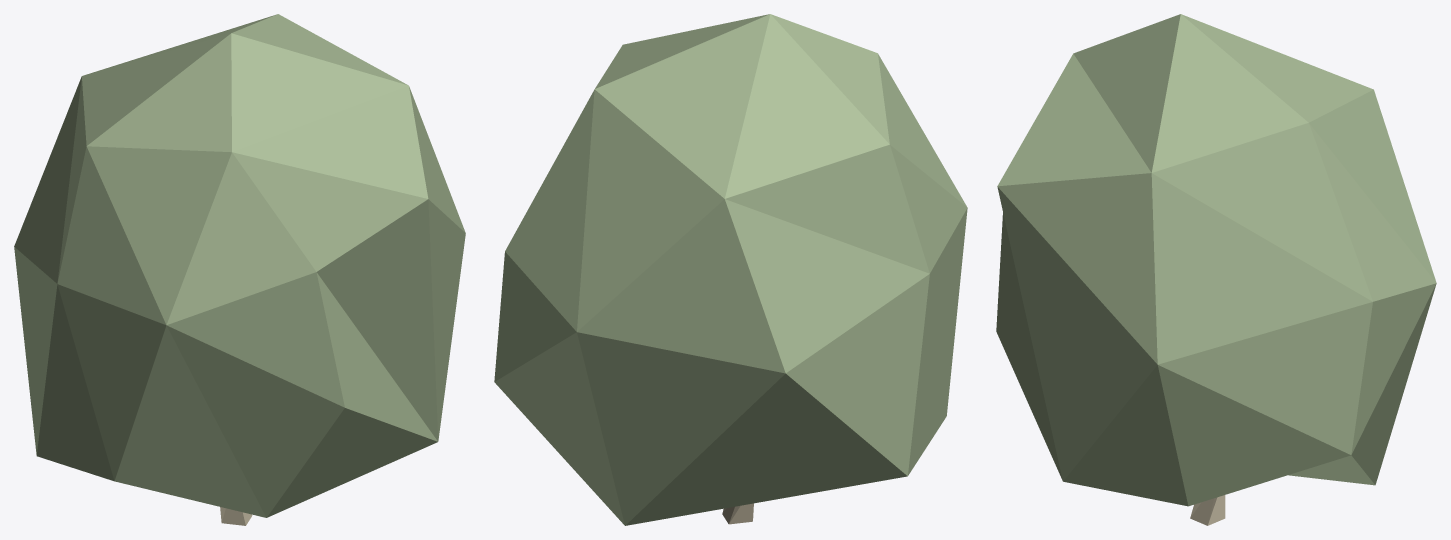
Rendered from BuxusSempervirens.glb.
3 renders of one model, left to right at view 1: azimuth 30°, elevation 25°; view 2: azimuth 150°, elevation 25°; view 3: azimuth 270°, elevation 25°, orthographic.
Parts seen in each view (by area): view 1: Crown; view 2: Crown; view 3: Crown, Trunk.
Part boxes in pixels (box(x1,y1,x2,y2)): Crown: box(14, 14, 465, 517); Crown: box(494, 14, 967, 525); Crown: box(996, 14, 1436, 506); Trunk: box(1190, 495, 1225, 525).
Size of the model in its own units: 0.8851 by 1.09 by 0.8757.
